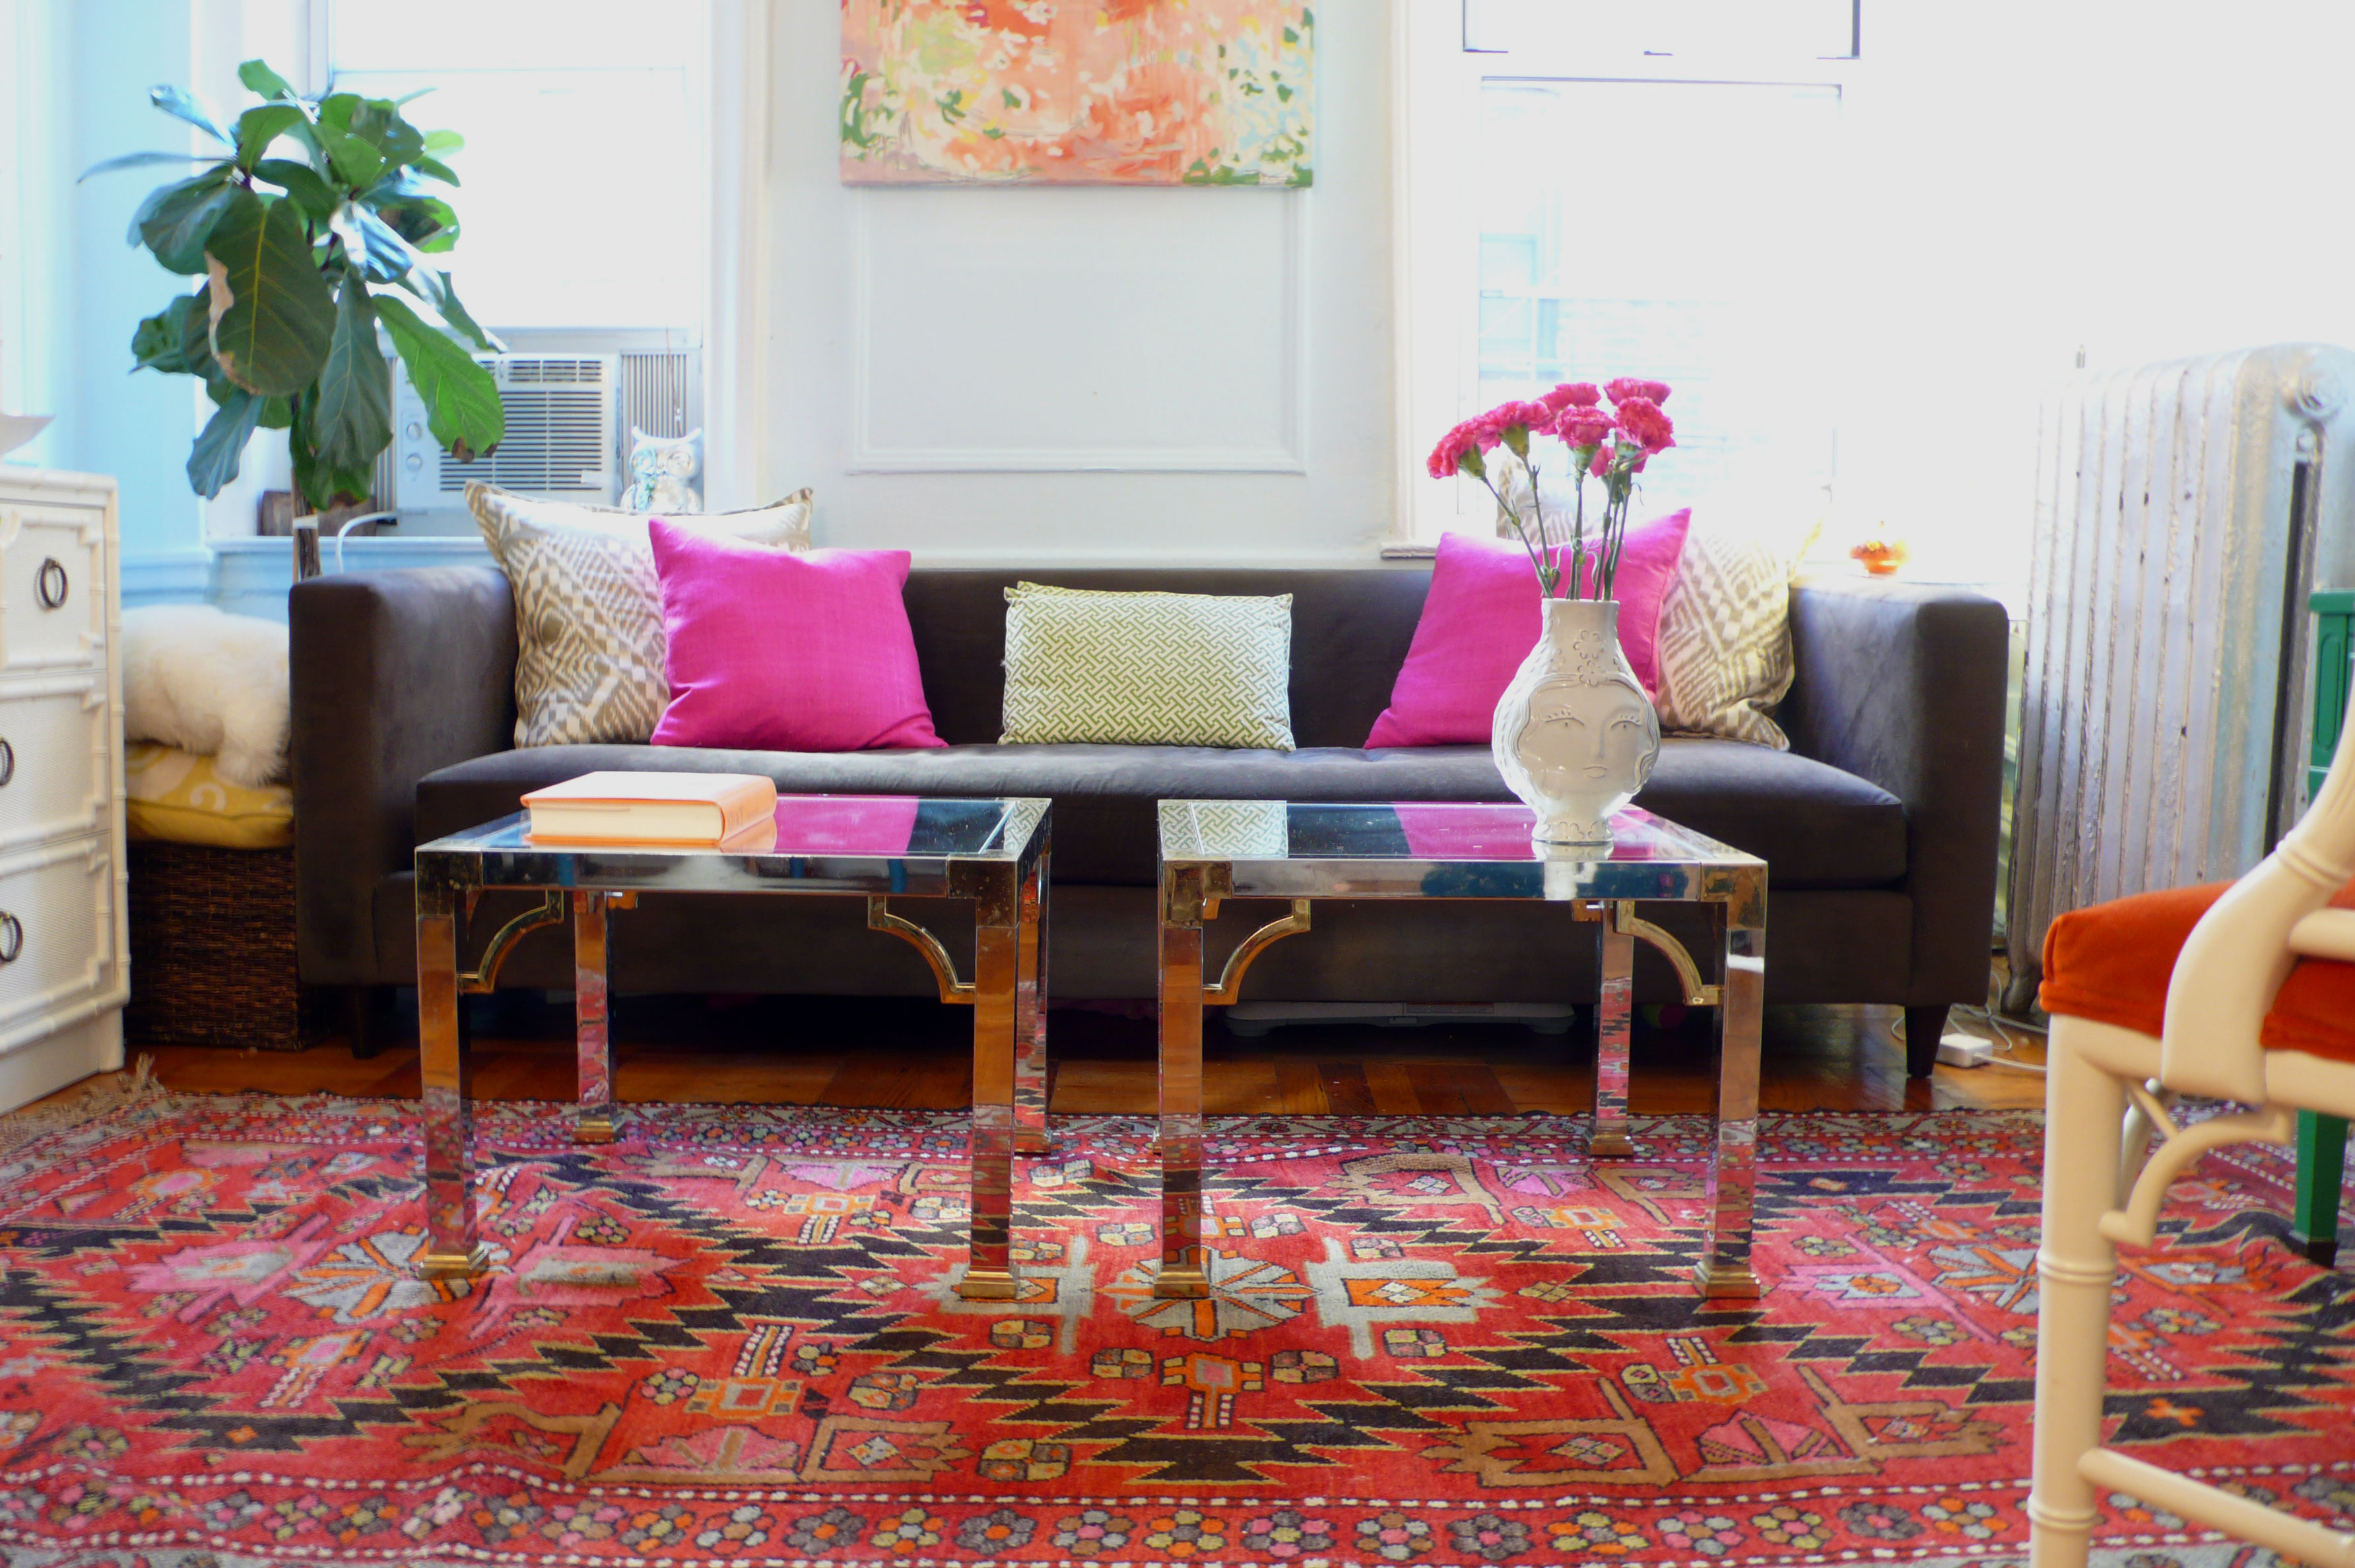hitam: (290, 567, 1996, 1006)
pink: (644, 513, 936, 746), (1368, 542, 1538, 754)
putih: (1534, 607, 1645, 844)
